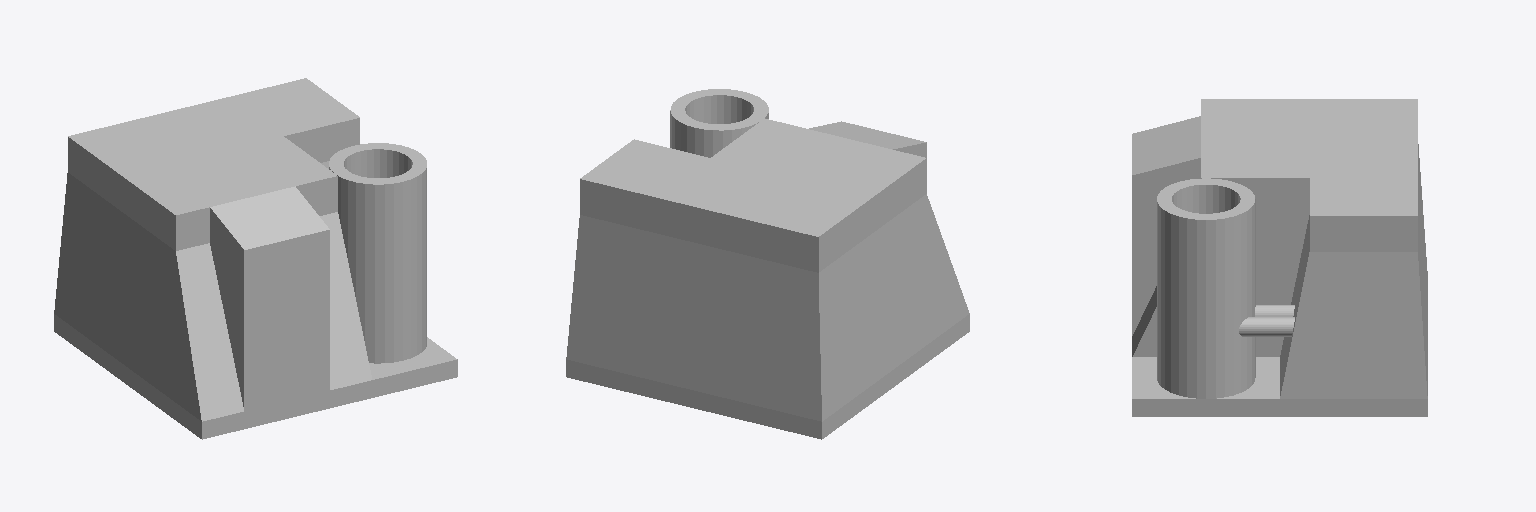
The model's file is Fabrica.obj.
3 renders of one model, left to right at view 1: azimuth 30°, elevation 25°; view 2: azimuth 150°, elevation 25°; view 3: azimuth 270°, elevation 25°, orthographic.
Parts seen in each view (by area): view 1: Cube; view 2: Cube; view 3: Cube.
Boxes of the visible parts, x1,y1,x2,y2 form: Cube: [54, 78, 457, 439]; Cube: [566, 89, 969, 439]; Cube: [1132, 99, 1427, 416].
Size of the model in its own units: 2.99 by 2.2 by 2.99.